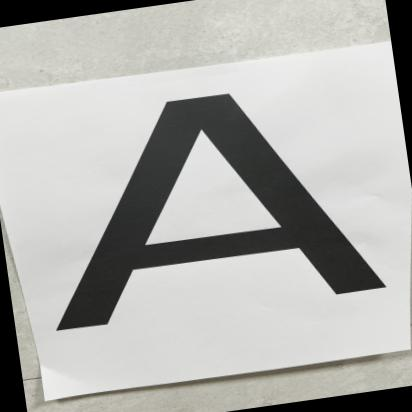seat: (26, 68, 399, 350)
